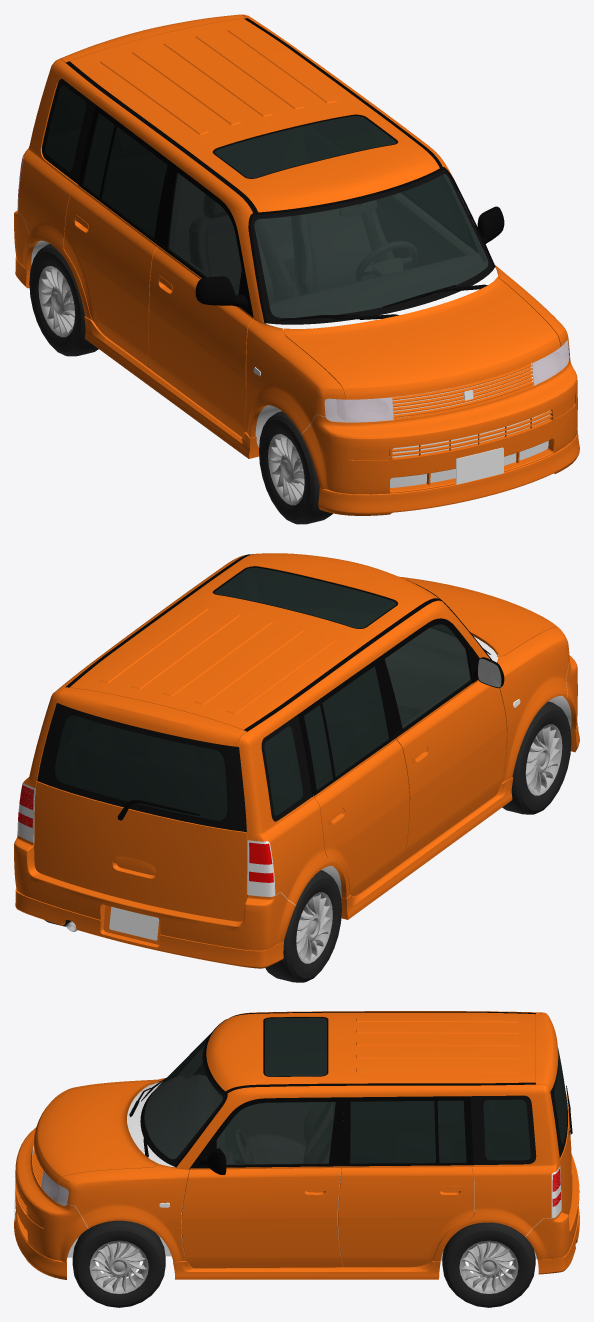
Rendered from scion_xb.dae.
The picture shows the model from 3 angles, top to bottom: view 1: azimuth 30°, elevation 25°; view 2: azimuth 150°, elevation 25°; view 3: azimuth 270°, elevation 25°; orthographic projection. The views are drawn at different scales.
Visible parts, largest first — view 1: Entity57, Entity63, bonnet, Entity12, Entity35, Entity55, Entity37, Entity10, roof-glass, Entity34, Entity65, Entity67 (+27 smaller); view 2: Entity57, Entity59, Entity35, Entity75, Entity55, Entity37, Entity61, Entity10, roof-glass, Entity65, Entity76, Entity58 (+20 smaller); view 3: Entity57, Entity36, Entity38, Entity56, bonnet, Entity11, Entity66, Entity70, Entity63, Entity12, t03, t04 (+26 smaller).
Boxes of the visible parts, x1=… form: Entity57: x1=70, y1=18, x2=439, y2=212; Entity63: x1=254, y1=174, x2=488, y2=317; bonnet: x1=283, y1=276, x2=560, y2=399; Entity12: x1=301, y1=357, x2=577, y2=494; Entity35: x1=148, y1=246, x2=253, y2=437; Entity55: x1=18, y1=58, x2=264, y2=335; Entity37: x1=63, y1=185, x2=157, y2=367; Entity10: x1=245, y1=318, x2=345, y2=437; roof-glass: x1=214, y1=116, x2=396, y2=178; Entity34: x1=318, y1=429, x2=579, y2=515; Entity65: x1=168, y1=172, x2=241, y2=295; Entity67: x1=101, y1=127, x2=167, y2=237; Entity57: x1=70, y1=553, x2=438, y2=729; Entity59: x1=34, y1=781, x2=247, y2=921; Entity35: x1=396, y1=680, x2=506, y2=862; Entity75: x1=55, y1=715, x2=227, y2=820; Entity55: x1=239, y1=600, x2=490, y2=904; Entity37: x1=313, y1=738, x2=409, y2=896; Entity61: x1=14, y1=834, x2=295, y2=950; Entity10: x1=496, y1=626, x2=569, y2=794; roof-glass: x1=214, y1=567, x2=396, y2=628; Entity65: x1=384, y1=624, x2=470, y2=728; Entity76: x1=37, y1=703, x2=246, y2=832; Entity58: x1=56, y1=687, x2=246, y2=746; Entity57: x1=206, y1=1012, x2=535, y2=1091; Entity36: x1=181, y1=1166, x2=343, y2=1268; Entity38: x1=338, y1=1165, x2=474, y2=1267; Entity56: x1=176, y1=1084, x2=560, y2=1267; bonnet: x1=34, y1=1079, x2=158, y2=1183; Entity11: x1=58, y1=1164, x2=191, y2=1267; Entity66: x1=216, y1=1102, x2=335, y2=1164; Entity70: x1=350, y1=1101, x2=435, y2=1163; Entity63: x1=144, y1=1033, x2=222, y2=1159; Entity12: x1=15, y1=1127, x2=87, y2=1262; t03: x1=72, y1=1220, x2=165, y2=1307; t04: x1=442, y1=1222, x2=535, y2=1307.
Bounding box in the file's own units: 1925 × 3827 × 1610.
